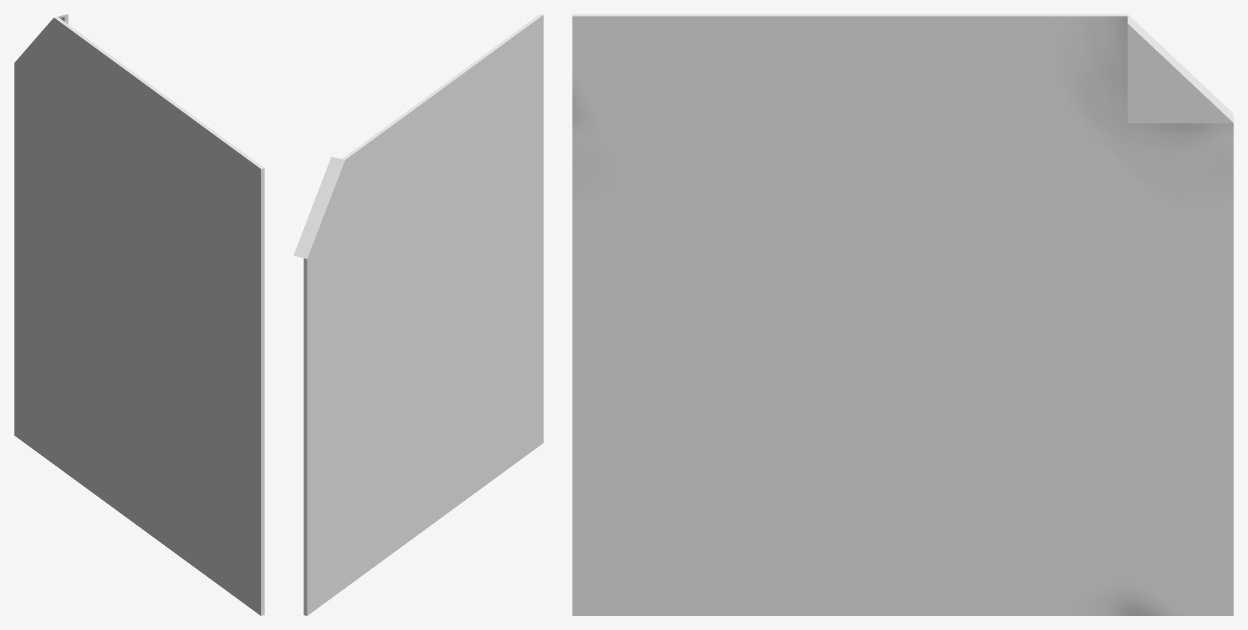
3 views of the same model, side by side, from view 1: azimuth 30°, elevation 25°; view 2: azimuth 150°, elevation 25°; view 3: azimuth 270°, elevation 25° (orthographic). The views are drawn at different scales.
Parts seen in each view (by area): view 1: Plane; view 2: Plane; view 3: Plane.
Part boxes in pixels (x1=…): Plane: x1=14, y1=14, x2=264, y2=615; Plane: x1=293, y1=14, x2=543, y2=615; Plane: x1=572, y1=14, x2=1233, y2=615.
Size of the model in its own units: 0.0168 by 0.5 by 0.5.
Materials: 1 (1 with a texture image).
